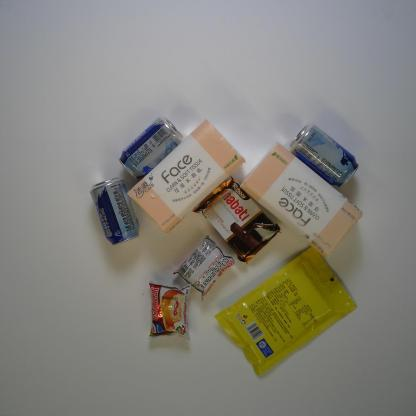Alcohol: (289, 122, 360, 192), (117, 115, 185, 182), (87, 176, 140, 247)
Dessert: (192, 173, 280, 265), (170, 233, 237, 303), (146, 280, 194, 341)
Dried Fruit: (213, 246, 359, 380)
Tissue: (239, 141, 362, 258), (126, 119, 245, 233)
